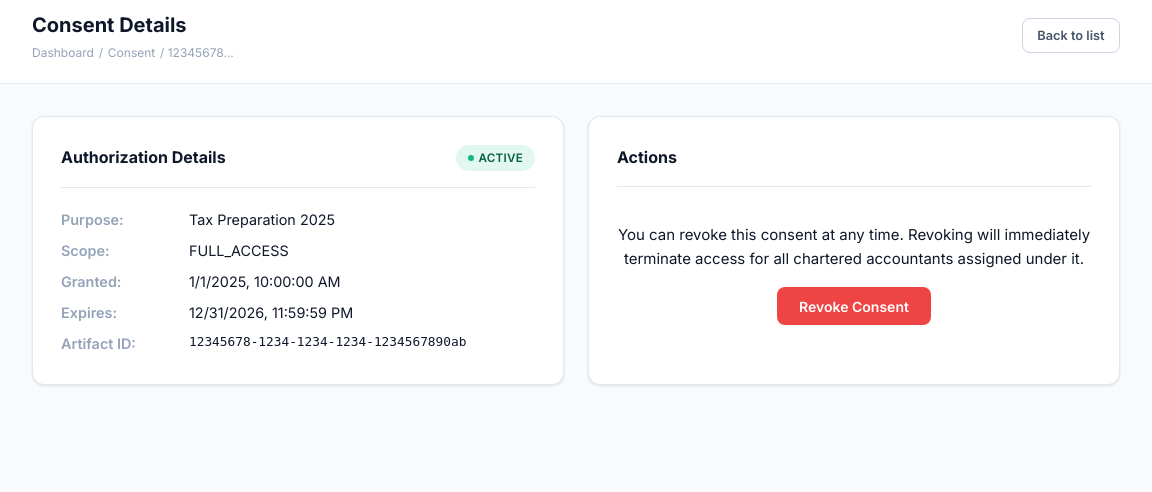
Test case: Consent Management Workspace › ConsentDetail Component › displays error when revocation fails
Click the button with test id "revoke-btn": (854, 306) [777, 287, 931, 325]
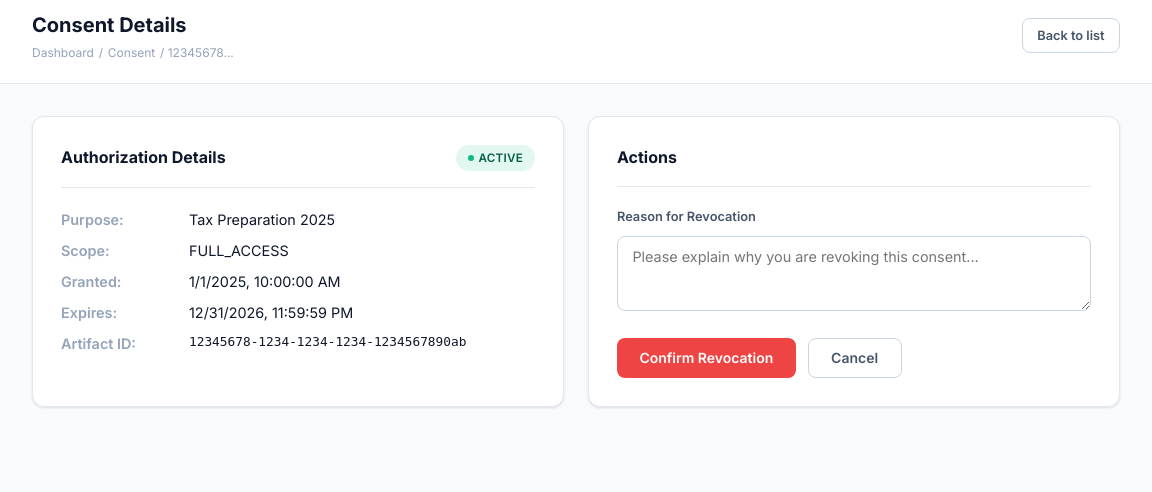
In the text box with test id "revocation-reason-input": (854, 273) [617, 236, 1091, 311], type "Revoking due to audit completion"
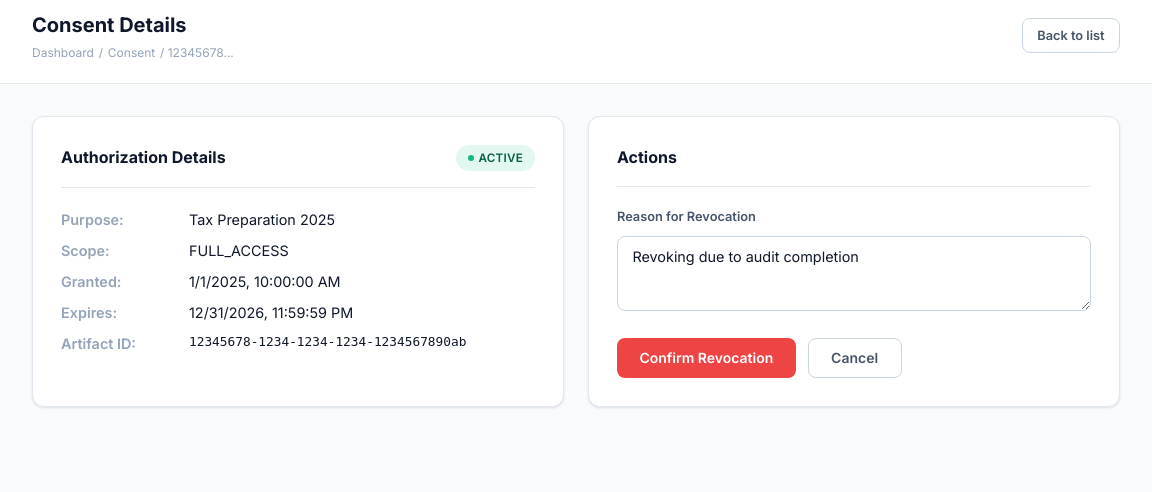
Click the button with test id "confirm-revoke-btn": (706, 358) [617, 338, 796, 378]
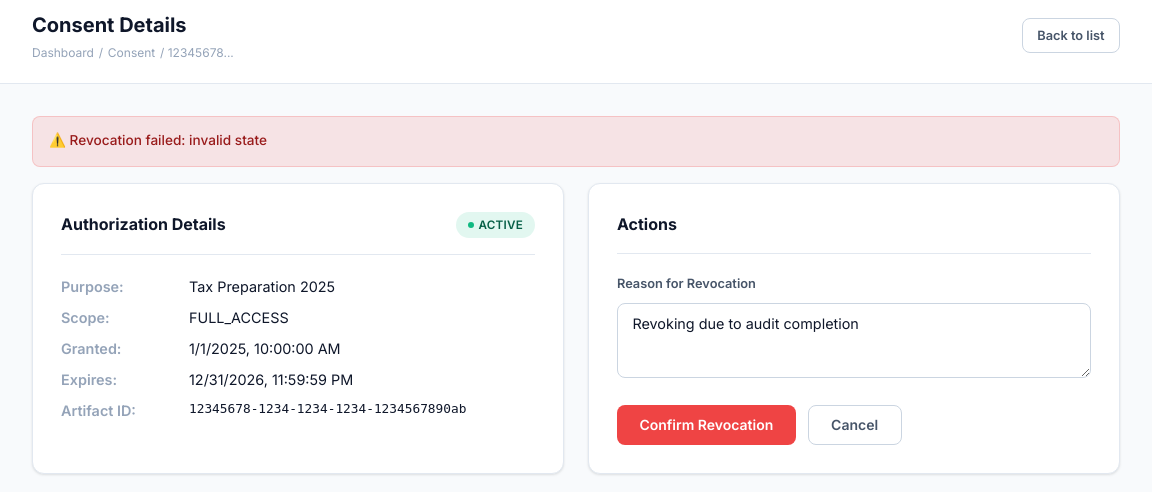
Expected: the text with test id "action-error-alert" shows "Revocation failed: invalid state", [70, 132, 267, 148]
